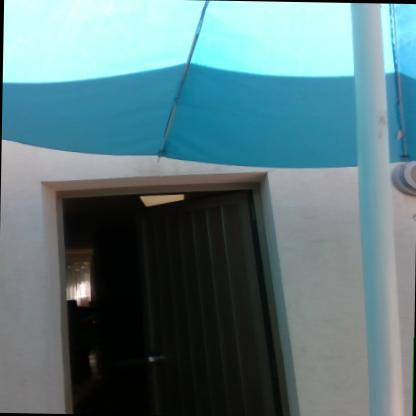semi: (23, 157, 287, 416)
